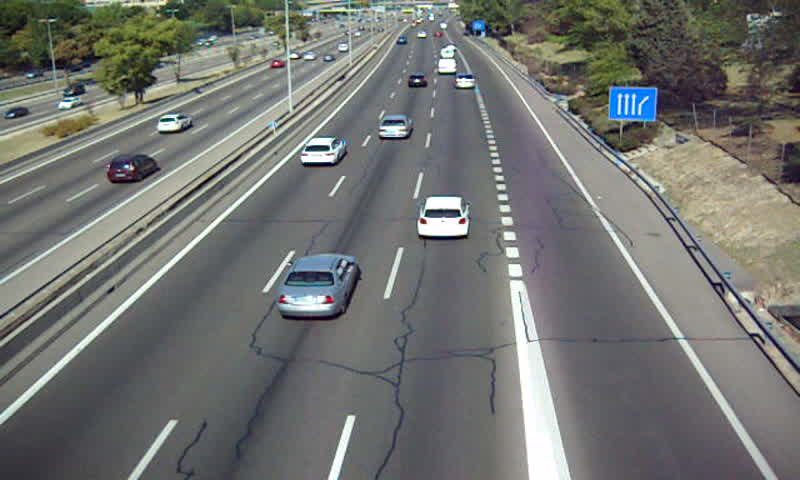car: (278, 253, 359, 318), (417, 197, 470, 238), (299, 138, 344, 165), (379, 115, 412, 140), (455, 73, 478, 91), (405, 74, 428, 89)
van: (436, 59, 457, 74), (442, 47, 456, 59)
